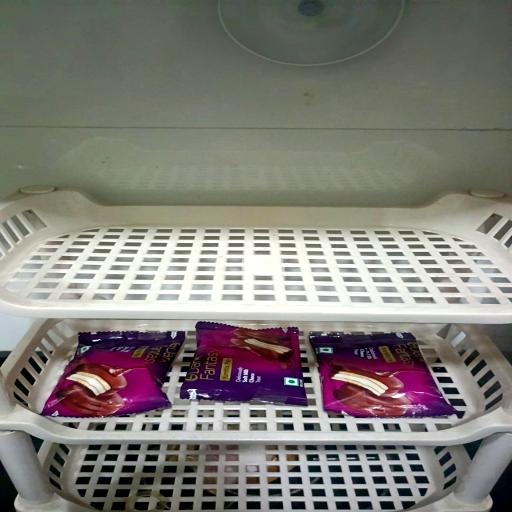Choco Pie: (310, 332, 461, 418), (41, 330, 183, 418), (182, 322, 308, 404)
